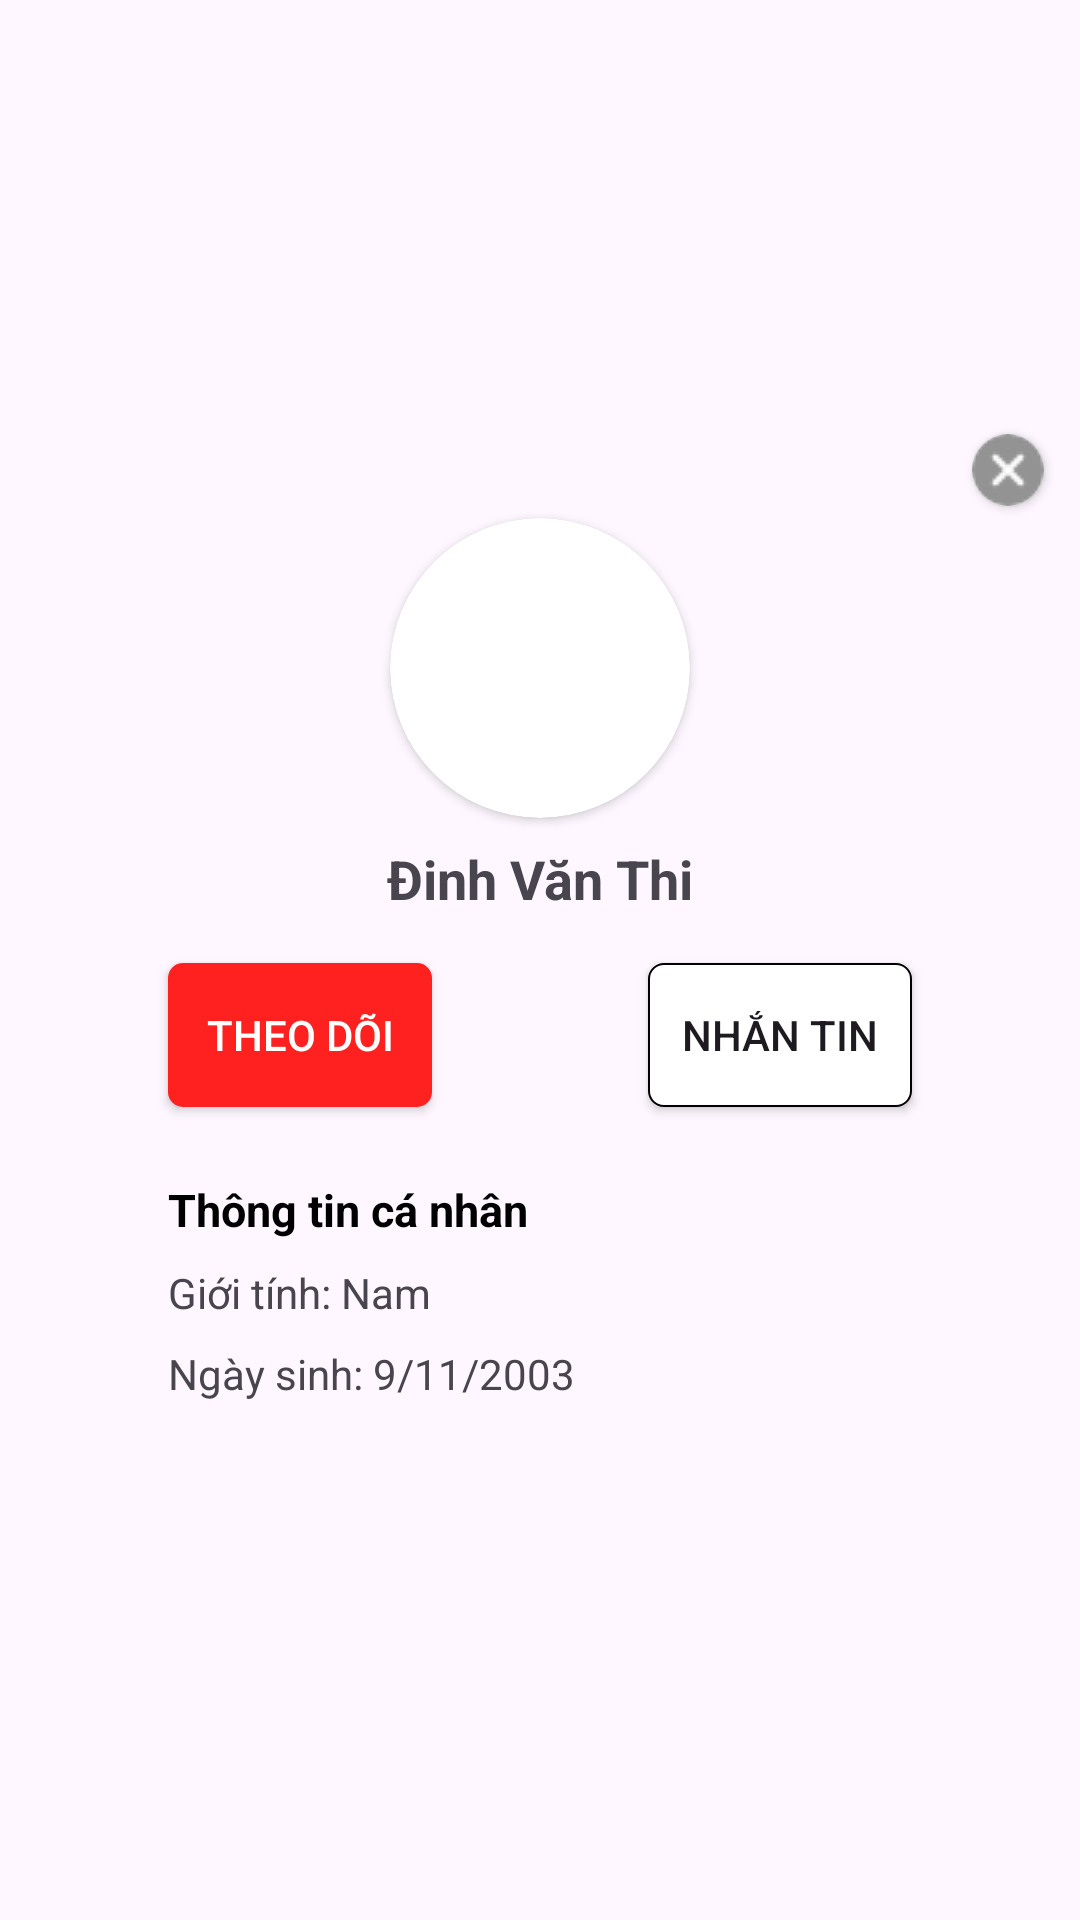

Named icons in this screenshot (1080 x 1920) and their bounding boxes, (x1, y1, x2, y2):
cancel: (972, 434, 1044, 506)
